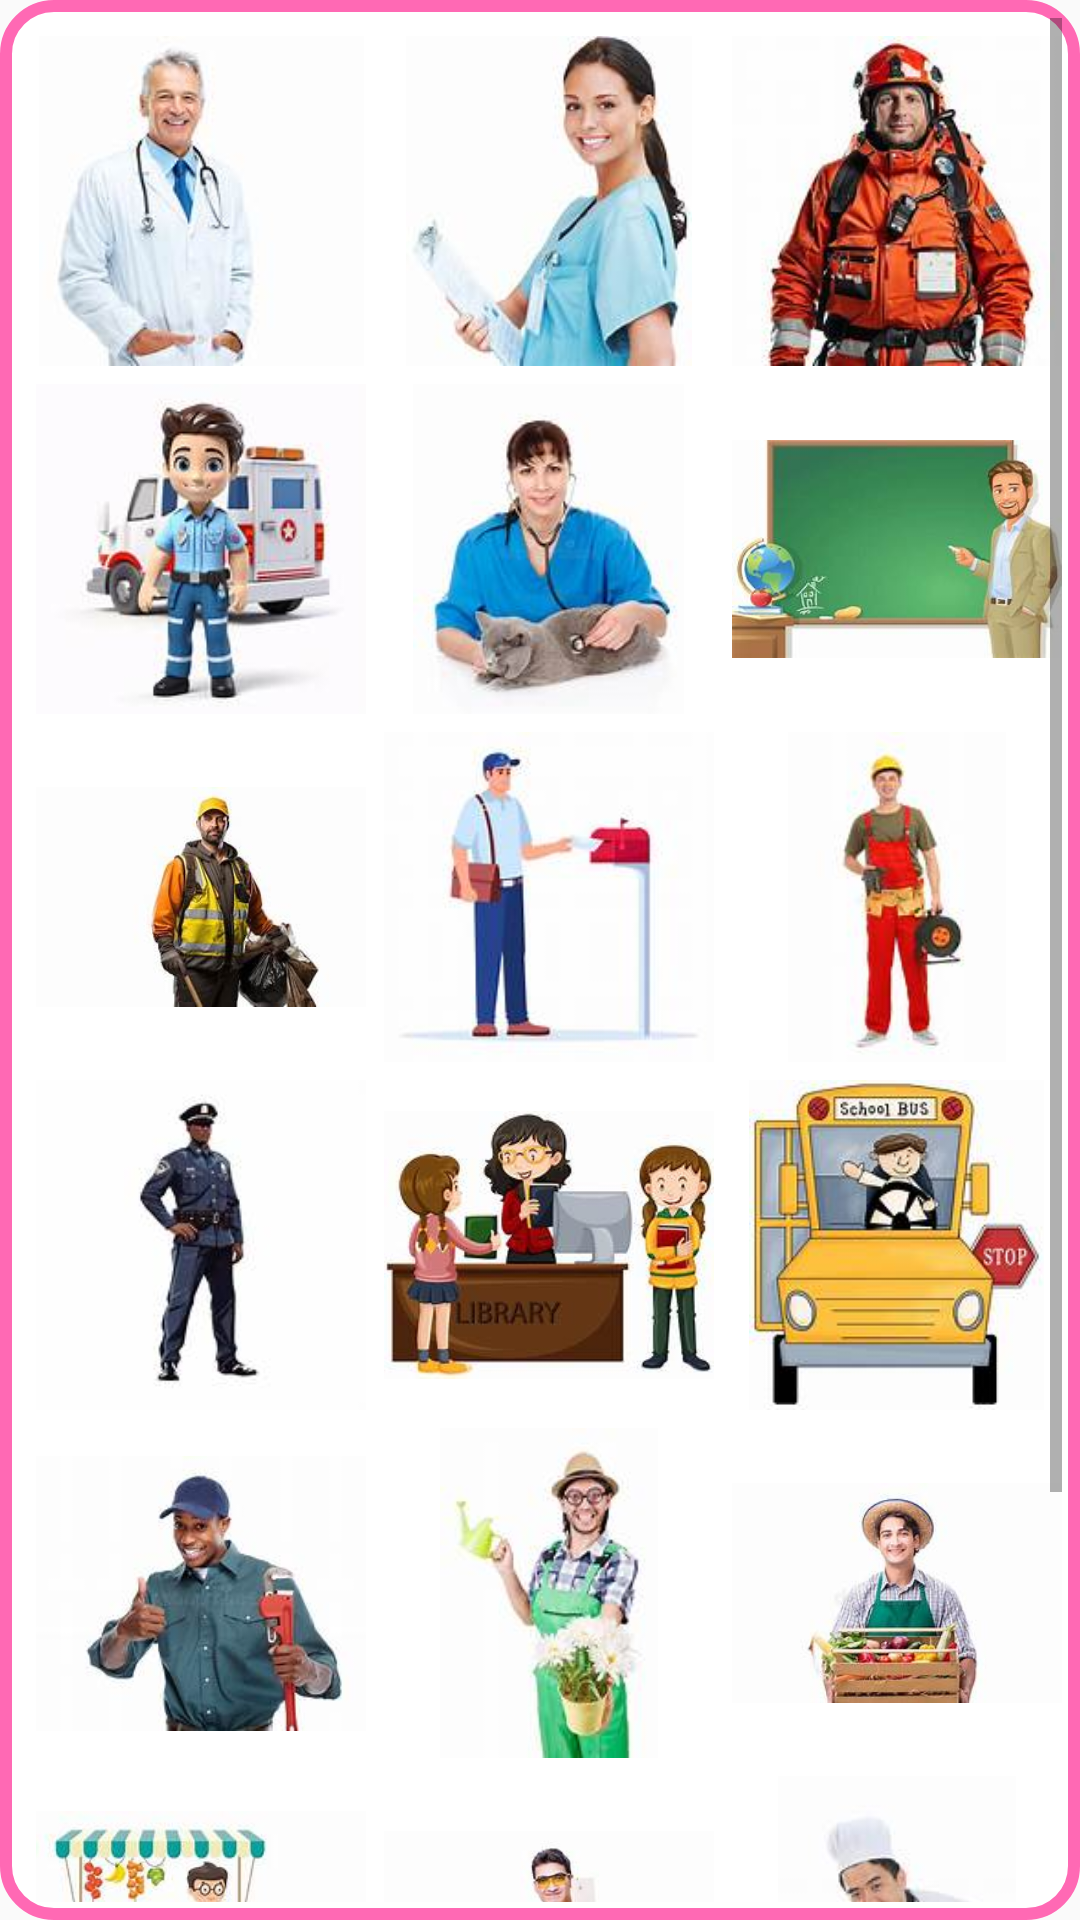

Where to tap for icons on this 1080 × 1920 app screen, as [x,y]:
Ambulance Driver: [208,551]
Doctor: [155,207]
Farmer: [892,1600]
Gardener: [547,1604]
Librarian: [550,1246]
Nurse: [552,201]
Paramedic: [899,201]
Plumber: [214,1603]
Postal Worker: [550,895]
Sanitation Worker: [235,901]
School Bus Driver: [894,1242]
Teacher: [897,549]
Veterinarian: [553,556]
